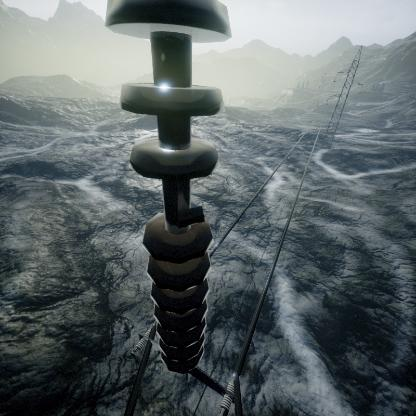insulator: (104, 1, 233, 373)
